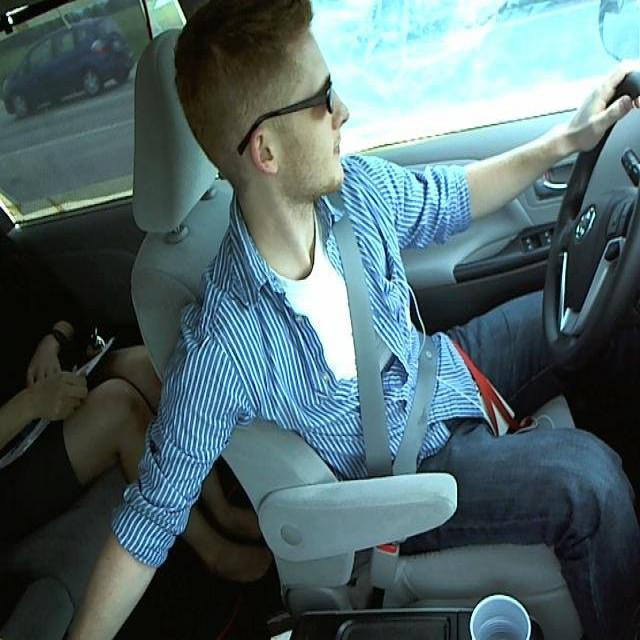seatbelt: (330, 211, 460, 477)
